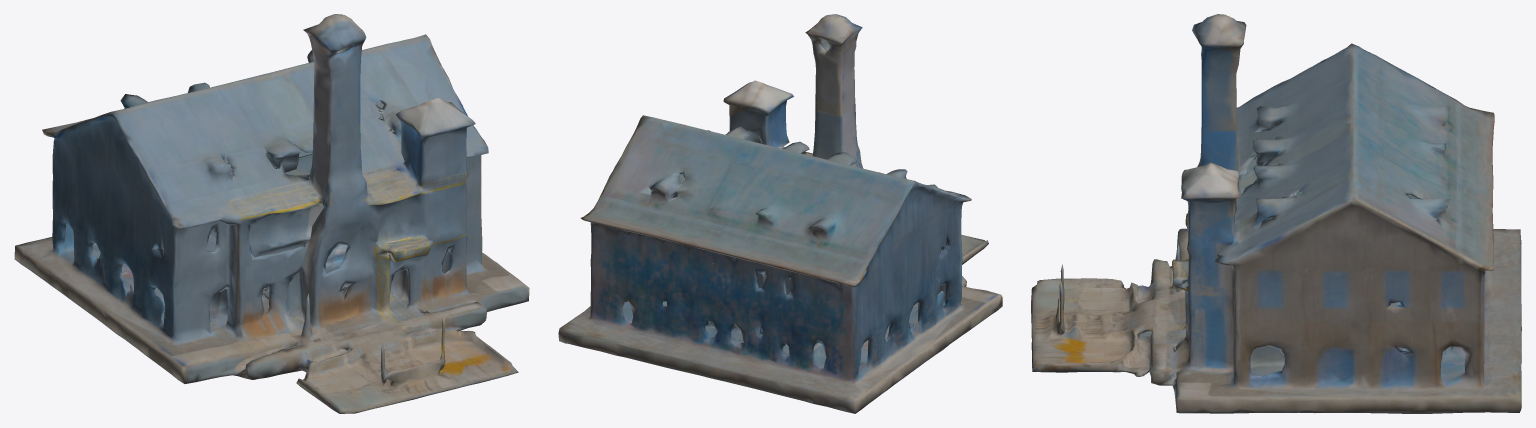
3 renders of one model, left to right at view 1: azimuth 30°, elevation 25°; view 2: azimuth 150°, elevation 25°; view 3: azimuth 270°, elevation 25°, orthographic. The views are drawn at different scales.
Parts seen in each view (by area): view 1: file1; view 2: file1; view 3: file1.
Part boxes in pixels (box(x1,y1,x2,y2)): file1: box(14, 14, 529, 413); file1: box(558, 14, 1002, 413); file1: box(1031, 14, 1521, 413).
Size of the model in its own units: 1.65 by 1.42 by 2.01.
Materials: 1 (1 with a texture image).
